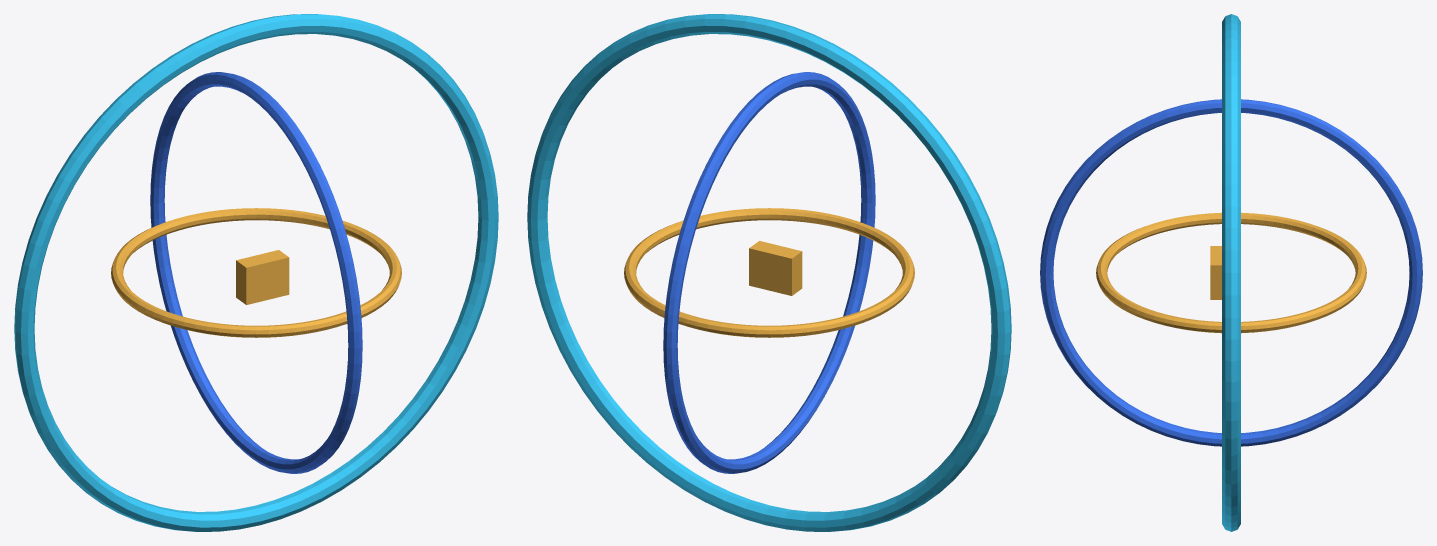
Rendered from 13_L84_OpticalGroundStationAimReticle.fbx.
3 renders of one model, left to right at view 1: azimuth 30°, elevation 25°; view 2: azimuth 150°, elevation 25°; view 3: azimuth 270°, elevation 25°, orthographic. The views are drawn at different scales.
Visible parts, largest first — view 1: L84_OpticalGroundStationAimReticle, L84_OpticalGroundStationAimReticle_Part_0003; view 2: L84_OpticalGroundStationAimReticle, L84_OpticalGroundStationAimReticle_Part_0003; view 3: L84_OpticalGroundStationAimReticle, L84_OpticalGroundStationAimReticle_Part_0003.
Boxes of the visible parts, box(x1,y1,x2,y2) form: L84_OpticalGroundStationAimReticle: box(14, 14, 498, 531); L84_OpticalGroundStationAimReticle_Part_0003: box(236, 250, 289, 304); L84_OpticalGroundStationAimReticle: box(527, 14, 1011, 531); L84_OpticalGroundStationAimReticle_Part_0003: box(749, 241, 802, 295); L84_OpticalGroundStationAimReticle: box(1040, 14, 1422, 531); L84_OpticalGroundStationAimReticle_Part_0003: box(1210, 246, 1221, 299).
Bounding box in the file's own units: 135 × 135 × 99.8.
